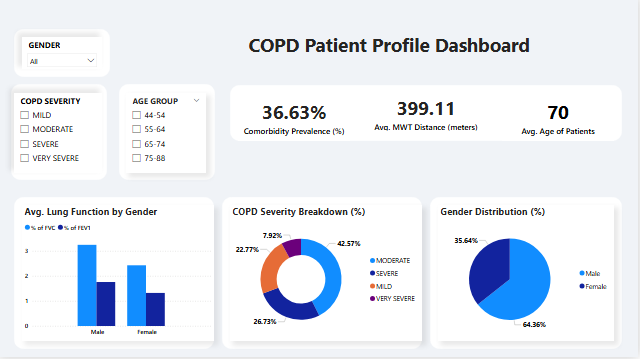

What the dashboard file says about the page in this screenshot:
{"tool":"powerbi","page":{"name":"Page 1","canvas":[1280,720],"ordinal":0},"visuals":[{"type":"shape","box":[25,173,192,192],"z":0},{"type":"shape","box":[32,64,192,96],"z":2000},{"type":"shape","box":[241,173,192,192],"z":3000},{"type":"shape","box":[864,384,408,312],"z":4000},{"type":"shape","box":[456,216,816,144],"z":5000},{"type":"shape","box":[444,384,408,312],"z":6000},{"type":"shape","box":[24,384,408,312],"z":7000},{"type":"pieChart","title":"Gender Distribution (%)","fields":{"Category":["datasetFull.gender"],"Y":["CountNonNull(datasetFull.gender)"]},"box":[888,408,360,264],"z":8000},{"type":"card","fields":{"Values":["Avg(datasetFull.AGE)"]},"box":[1024,240,224,96],"z":9000},{"type":"donutChart","title":"COPD Severity Breakdown (%)","fields":{"Category":["datasetFull.COPDSEVERITY"],"Y":["CountNonNull(datasetFull.COPDSEVERITY)"]},"box":[480,408,336,264],"z":10000},{"type":"clusteredColumnChart","title":"Avg. Lung Function by Gender","fields":{"Category":["datasetFull.gender"],"Y":["Avg(datasetFull.FVC)","Avg(datasetFull.FEV1)"]},"box":[48,408,360,264],"z":11000},{"type":"card","fields":{"Values":["Avg(datasetFull.MWT1Best)"]},"box":[736,240,240,96],"z":12000},{"type":"slicer","fields":{"Values":["datasetFull.COPDSEVERITY"]},"box":[32,192,176,160],"z":13000},{"type":"slicer","fields":{"Values":["datasetFull.AgeGroup"]},"box":[256,192,160,160],"z":14000},{"type":"slicer","fields":{"Values":["datasetFull.gender"]},"box":[48,80,160,64],"z":15000},{"type":"card","fields":{"Values":["datasetFull.% With Comorbidity"]},"box":[480,240,224,96],"z":16000},{"type":"textbox","box":[496,80,512,64],"z":17000}]}

Visuals, with their boxes in screenshot pixels (x1, y1, x2, y2), scaled from the page's 1280x720 canvas onto the 640x359 screenshot:
shape: (left=12, top=86, right=108, bottom=182)
shape: (left=16, top=32, right=112, bottom=80)
shape: (left=120, top=86, right=216, bottom=182)
shape: (left=432, top=191, right=636, bottom=347)
shape: (left=228, top=108, right=636, bottom=180)
shape: (left=222, top=191, right=426, bottom=347)
shape: (left=12, top=191, right=216, bottom=347)
"Gender Distribution (%)" pieChart: (left=444, top=203, right=624, bottom=335)
card - Avg(datasetFull.AGE): (left=512, top=120, right=624, bottom=168)
"COPD Severity Breakdown (%)" donutChart: (left=240, top=203, right=408, bottom=335)
"Avg. Lung Function by Gender" clusteredColumnChart: (left=24, top=203, right=204, bottom=335)
card - Avg(datasetFull.MWT1Best): (left=368, top=120, right=488, bottom=168)
slicer - datasetFull.COPDSEVERITY: (left=16, top=96, right=104, bottom=176)
slicer - datasetFull.AgeGroup: (left=128, top=96, right=208, bottom=176)
slicer - datasetFull.gender: (left=24, top=40, right=104, bottom=72)
card - datasetFull.% With Comorbidity: (left=240, top=120, right=352, bottom=168)
textbox: (left=248, top=40, right=504, bottom=72)
